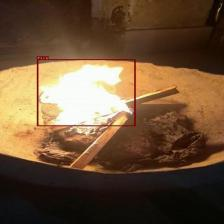fire: (37, 59, 135, 126)
